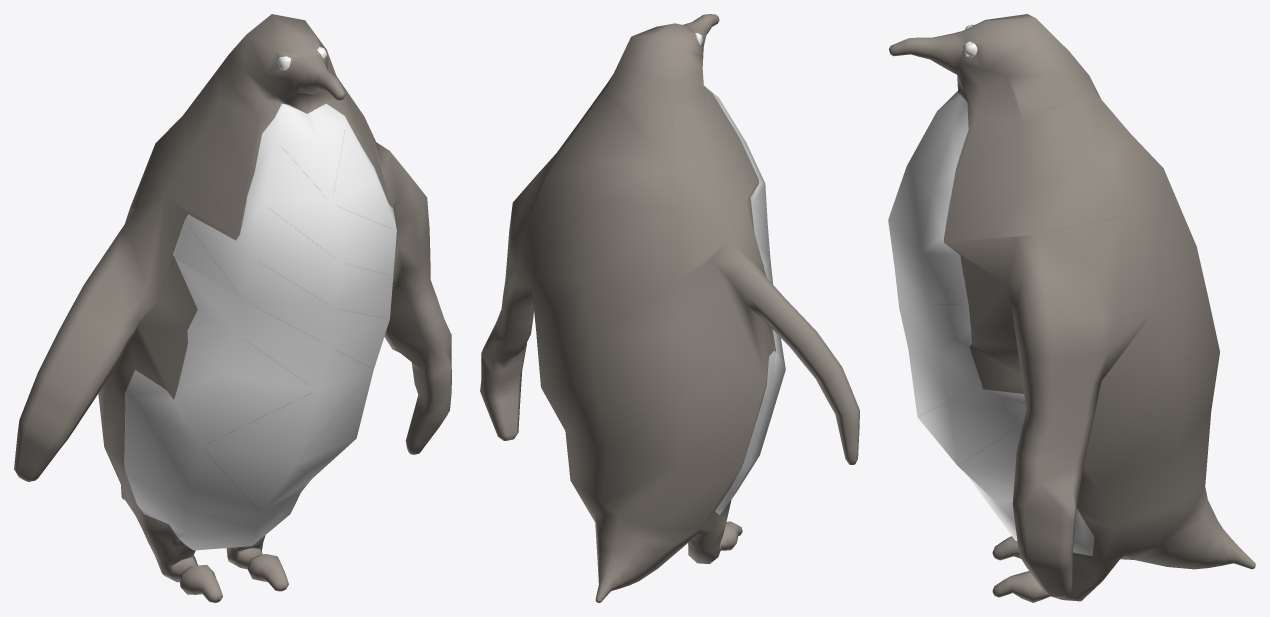
The model's file is penguin.glb.
3 views of the same model, side by side, from view 1: azimuth 30°, elevation 25°; view 2: azimuth 150°, elevation 25°; view 3: azimuth 270°, elevation 25° (orthographic). The views are drawn at different scales.
Bounding box in the file's own units: 0.7754 × 0.9854 × 0.5605.
Materials: 1 (1 with a texture image).
